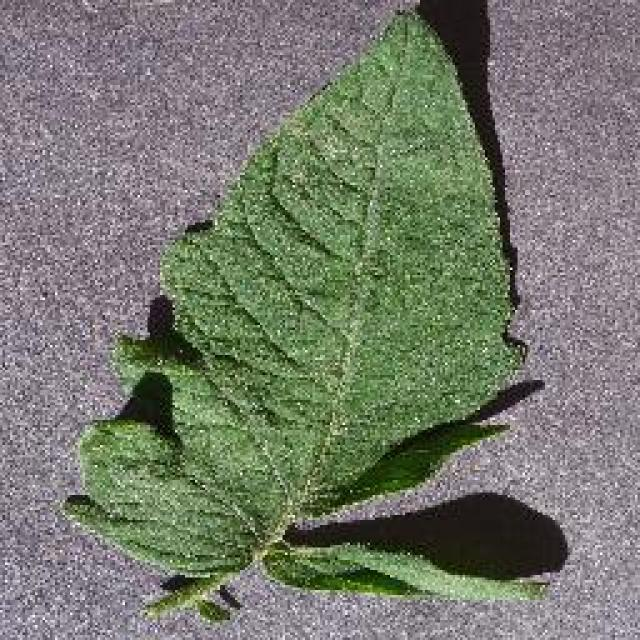Tomato healthy leaf: (89, 14, 531, 606)
